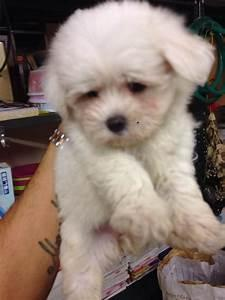dog: (39, 0, 224, 299)
